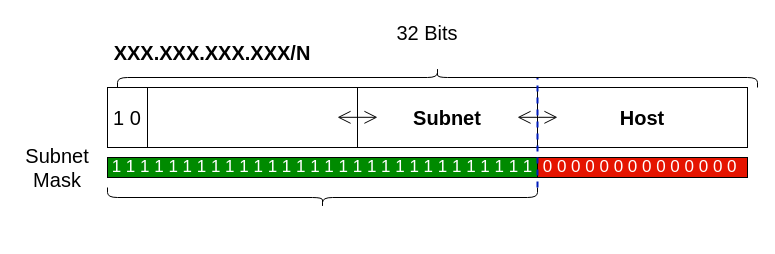
Image size: 775x254. Some labels were removed from this diagram. Each missing label, with the box of its shape:
N - Bits: (106, 186, 538, 208)
Network: (146, 86, 358, 148)
